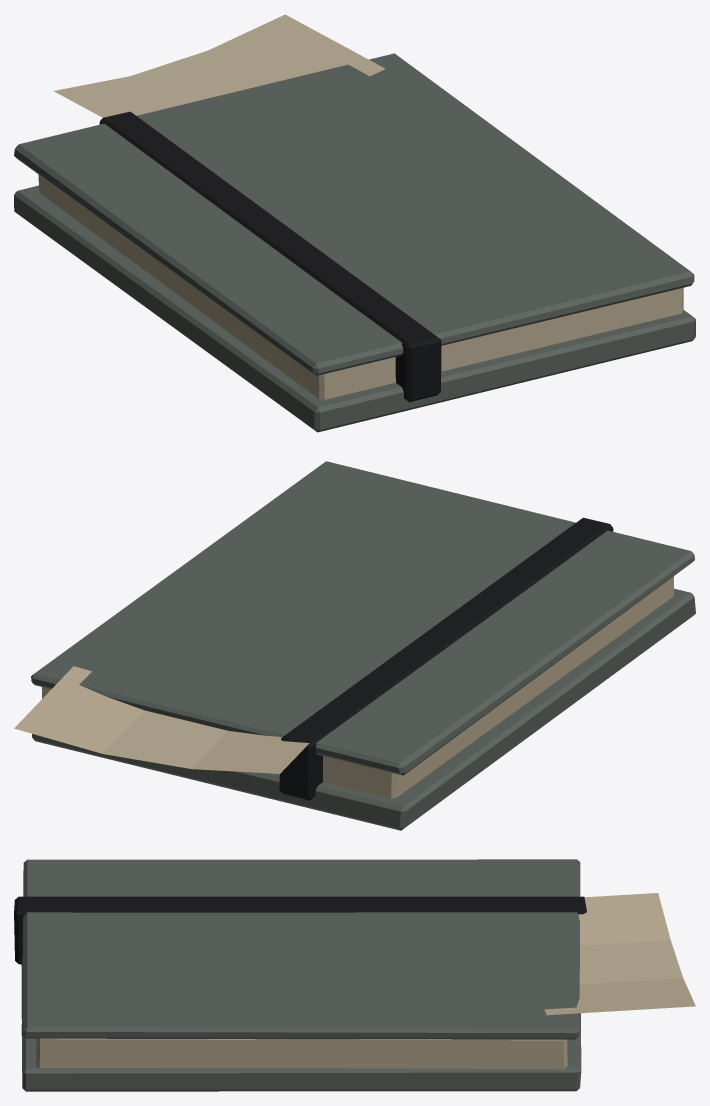
File: personal_notebook.glb
The picture shows the model from 3 angles, top to bottom: view 1: azimuth 30°, elevation 25°; view 2: azimuth 150°, elevation 25°; view 3: azimuth 270°, elevation 25°; orthographic projection. The views are drawn at different scales.
Visible parts, largest first — view 1: personal_notebook; view 2: personal_notebook; view 3: personal_notebook.
Boxes of the visible parts, left/top/right/bottom form: personal_notebook: left=14, top=14, right=695, bottom=432; personal_notebook: left=14, top=461, right=695, bottom=830; personal_notebook: left=14, top=859, right=695, bottom=1091.
Size of the model in its own units: 0.1357 by 0.0241 by 0.2263.
